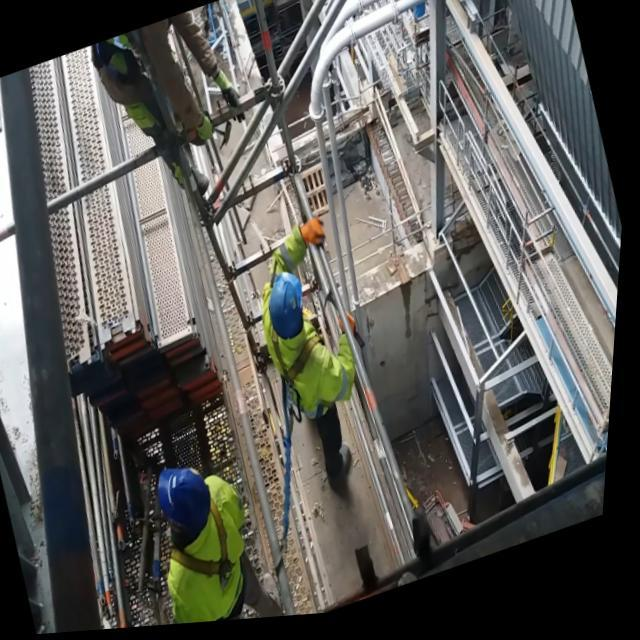belt: (153, 497, 284, 629), (252, 301, 352, 440)
